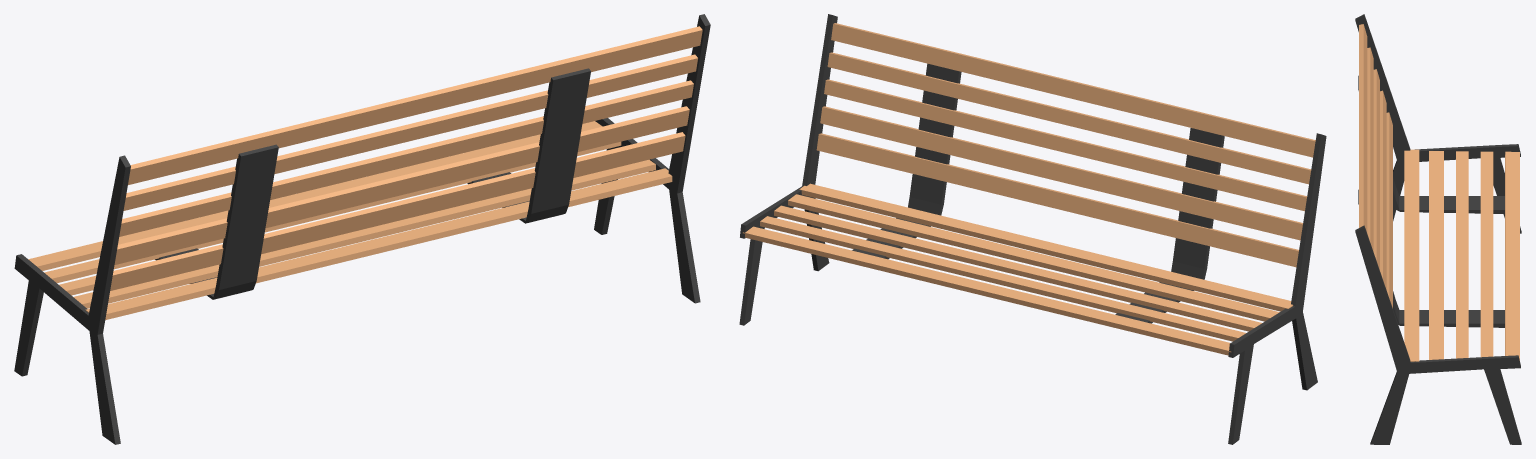
File: Chair.glb
3 views of the same model, side by side, from view 1: azimuth 30°, elevation 25°; view 2: azimuth 150°, elevation 25°; view 3: azimuth 270°, elevation 25° (orthographic). The views are drawn at different scales.
Visible parts, largest first — view 1: Chair; view 2: Chair; view 3: Chair.
Part boxes in pixels (x1,y1,x2,y2): Chair: (14,14,710,444); Chair: (739,14,1326,444); Chair: (1355,14,1521,444).
Size of the model in its own units: 2.45 by 1.17 by 0.8079.
1 material, 1 textured.
